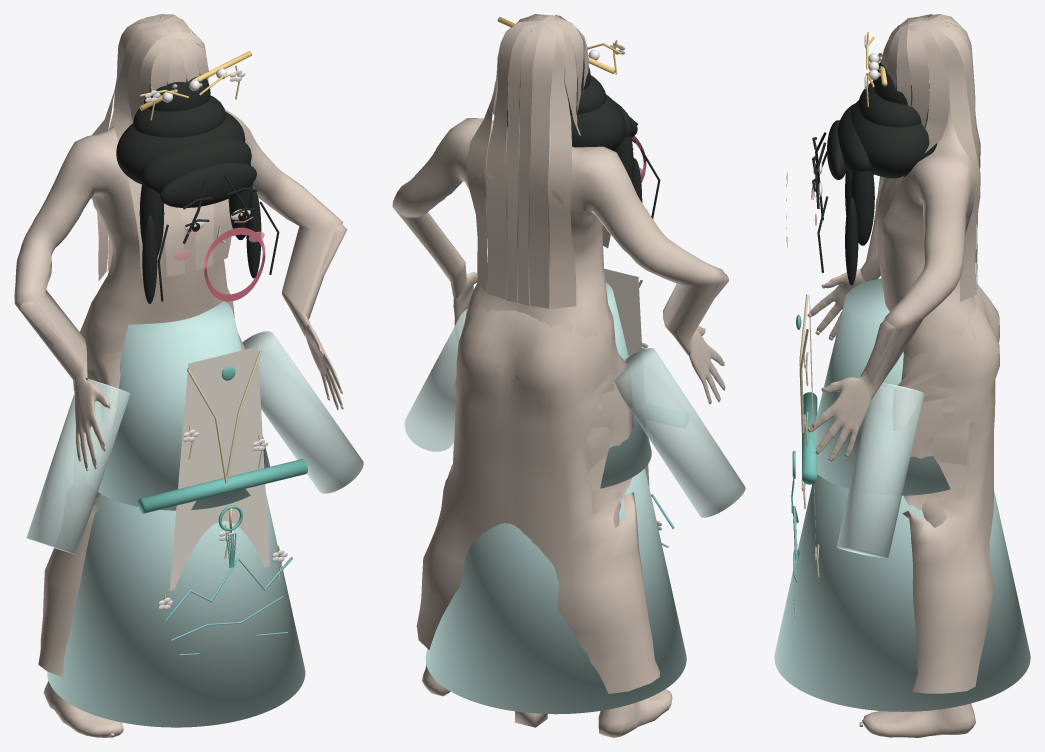
The model's file is lingling-realistic.glb.
The picture shows the model from 3 angles, left to right: view 1: azimuth 30°, elevation 25°; view 2: azimuth 150°, elevation 25°; view 3: azimuth 270°, elevation 25°; orthographic projection.
Visible parts, largest first — view 1: Lingling_MPFB_CC0_Base, Lingling_Long_Hanfu_Skirt, Lingling_Upper_Hanfu, Lingling_Ivory_Inner_Robe, Lingling_Right_Wide_Sleeve, Lingling_Left_Wide_Sleeve, Lingling_Hair_Back_Cap, Lingling_Hair_Front_Cap, Lingling_Hair_Crown, Lingling_Jade_Sash, Lingling_Hair_Top_Cover, Lingling_Top_Bun (+4 smaller); view 2: Lingling_MPFB_CC0_Base, Lingling_Long_Hanfu_Skirt, Lingling_Left_Wide_Sleeve, Lingling_Right_Wide_Sleeve, Lingling_Upper_Hanfu, Lingling_Hair_Back_Cap, Lingling_Ivory_Inner_Robe, Lingling_Hair_Top_Cover; view 3: Lingling_MPFB_CC0_Base, Lingling_Long_Hanfu_Skirt, Lingling_Right_Wide_Sleeve, Lingling_Upper_Hanfu, Lingling_Hair_Back_Cap, Lingling_Hair_Top_Cover, Lingling_Hair_Right_Wing, Lingling_Hair_Crown, Lingling_Jade_Sash, Lingling_Right_Side_Lock, Lingling_Hair_Front_Cap, Lingling_Top_Bun.
Boxes of the visible parts, <box> form: Lingling_MPFB_CC0_Base: <box>14,14,347,737</box>; Lingling_Long_Hanfu_Skirt: <box>47,492,305,727</box>; Lingling_Upper_Hanfu: <box>98,301,269,510</box>; Lingling_Ivory_Inner_Robe: <box>169,347,269,590</box>; Lingling_Right_Wide_Sleeve: <box>242,331,363,493</box>; Lingling_Left_Wide_Sleeve: <box>26,378,130,554</box>; Lingling_Hair_Back_Cap: <box>116,111,245,184</box>; Lingling_Hair_Front_Cap: <box>160,162,256,207</box>; Lingling_Hair_Crown: <box>140,138,251,194</box>; Lingling_Jade_Sash: <box>138,459,307,513</box>; Lingling_Hair_Top_Cover: <box>133,95,225,137</box>; Lingling_Top_Bun: <box>144,73,210,111</box>; Lingling_MPFB_CC0_Base: <box>392,14,728,737</box>; Lingling_Long_Hanfu_Skirt: <box>425,468,686,714</box>; Lingling_Left_Wide_Sleeve: <box>614,348,745,517</box>; Lingling_Right_Wide_Sleeve: <box>404,309,467,451</box>; Lingling_Upper_Hanfu: <box>600,282,651,488</box>; Lingling_Hair_Back_Cap: <box>507,94,625,150</box>; Lingling_Ivory_Inner_Robe: <box>604,268,649,488</box>; Lingling_Hair_Top_Cover: <box>567,75,606,115</box>; Lingling_MPFB_CC0_Base: <box>807,14,999,737</box>; Lingling_Long_Hanfu_Skirt: <box>774,474,1030,711</box>; Lingling_Right_Wide_Sleeve: <box>837,383,923,558</box>; Lingling_Upper_Hanfu: <box>813,278,950,495</box>; Lingling_Hair_Back_Cap: <box>851,100,937,178</box>; Lingling_Hair_Top_Cover: <box>858,81,928,127</box>; Lingling_Hair_Right_Wing: <box>850,171,874,245</box>; Lingling_Hair_Crown: <box>837,103,874,174</box>; Lingling_Jade_Sash: <box>802,392,817,484</box>; Lingling_Right_Side_Lock: <box>845,197,858,285</box>; Lingling_Hair_Front_Cap: <box>827,120,846,179</box>; Lingling_Top_Bun: <box>873,61,912,104</box>.
Size of the model in its own units: 1.71 by 3.39 by 1.16.
